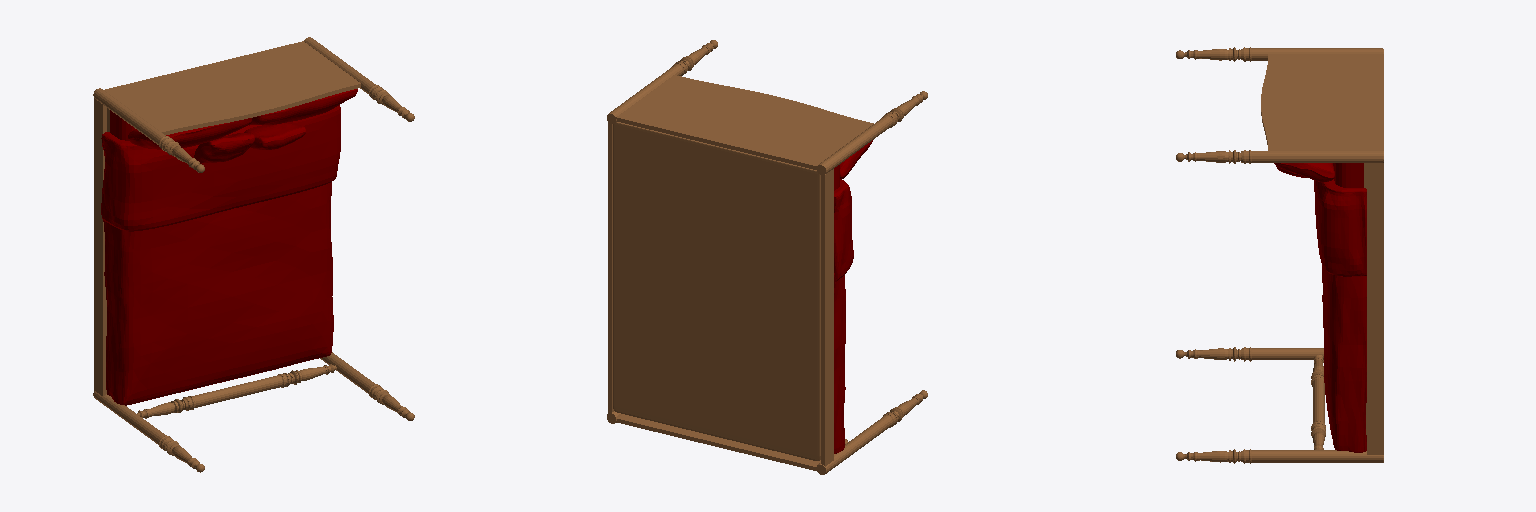
Rendered from Full_Size_Bed_With_Crimson_Sheets_Honey_V1.obj.
3 views of the same model, side by side, from view 1: azimuth 30°, elevation 25°; view 2: azimuth 150°, elevation 25°; view 3: azimuth 270°, elevation 25° (orthographic).
Parts seen in each view (by area): view 1: Box2228, Box2234, Box2225, Cylinder1109, Cylinder1110, Cylinder1111, Box2227, Box2229, Box2231, Cylinder1113, Cylinder1112, Box2230; view 2: Box2233, Box2234, Box2225, Box2228, Box2232, Cylinder1110, Box2224, Cylinder1111, Cylinder1113; view 3: Box2228, Box2234, Box2224, Cylinder1113, Cylinder1112, Cylinder1110, Cylinder1111, Cylinder1109, Box2229, Box2226.
Part boxes in pixels (x1,y1,x2,y2): Box2228: (101,105,340,405); Box2234: (104,41,360,134); Box2225: (94,98,106,396); Cylinder1109: (137,364,336,418); Cylinder1110: (93,88,199,169); Cylinder1111: (93,391,199,468); Box2227: (128,118,251,149); Box2229: (249,89,357,125); Box2231: (194,133,254,163); Cylinder1113: (304,37,409,118); Cylinder1112: (320,352,409,417); Box2230: (244,122,305,149); Box2233: (613,122,820,460); Box2234: (616,75,873,169); Box2225: (821,169,833,466); Box2228: (834,180,853,453); Box2232: (616,414,820,470); Cylinder1110: (816,94,922,174); Box2224: (608,122,613,413); Cylinder1111: (816,394,922,474); Cylinder1113: (607,43,713,123); Box2228: (1314,179,1366,452); Box2234: (1261,54,1383,150); Box2224: (1367,163,1383,454); Cylinder1113: (1184,150,1383,163); Cylinder1112: (1184,449,1383,463); Cylinder1110: (1184,47,1383,61); Cylinder1111: (1184,347,1323,361); Cylinder1109: (1311,354,1325,449); Box2229: (1274,163,1334,181); Box2226: (1333,163,1363,187).
Size of the model in its own units: 151 by 199 by 120.